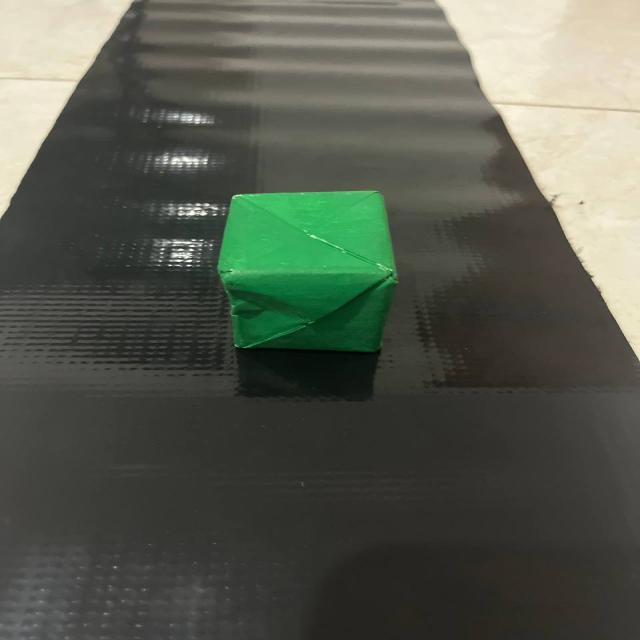Verde: (178, 173, 432, 378)
